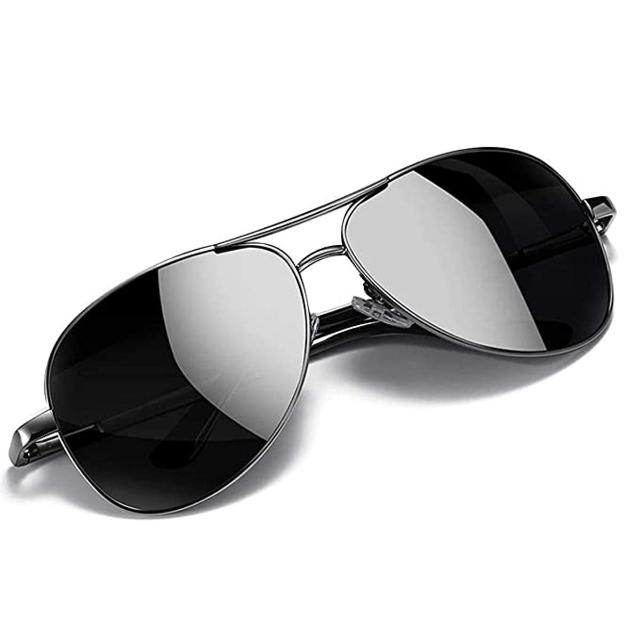Sunglasses: (3, 137, 634, 525)
